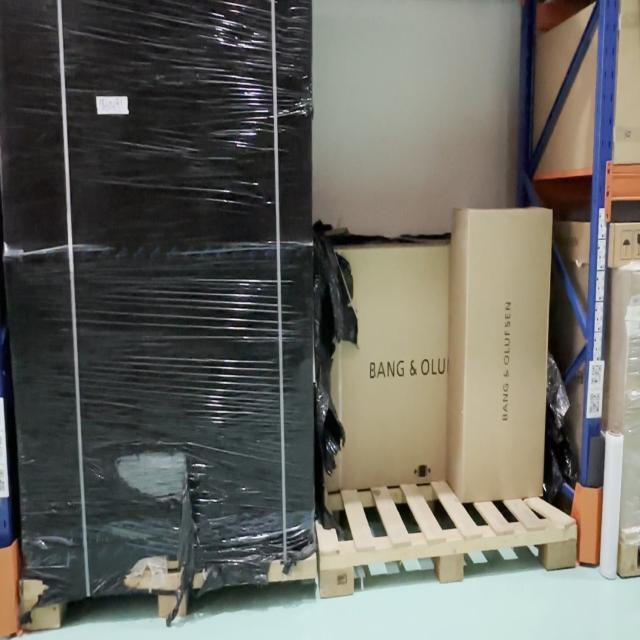box: (2, 236, 315, 599), (460, 205, 553, 502)
